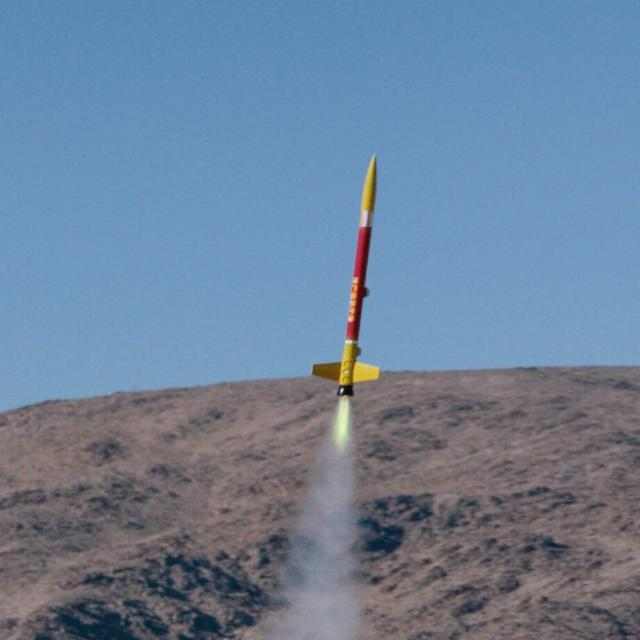Rocket: (311, 152, 381, 396)
